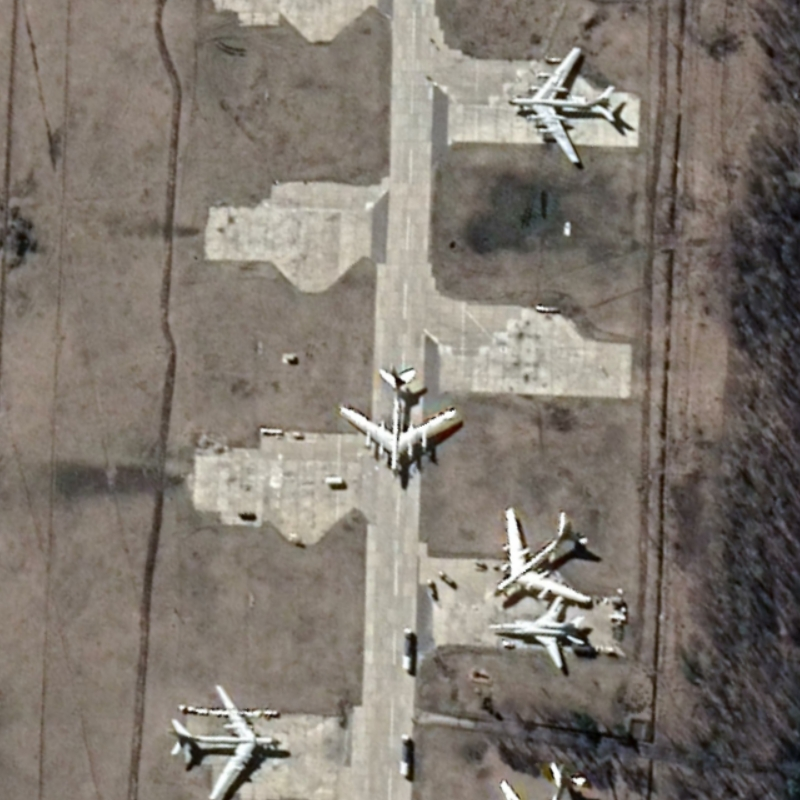A12: (486, 593, 587, 671)
A17: (167, 682, 284, 800), (338, 366, 459, 479), (508, 45, 617, 164), (493, 505, 594, 606)
